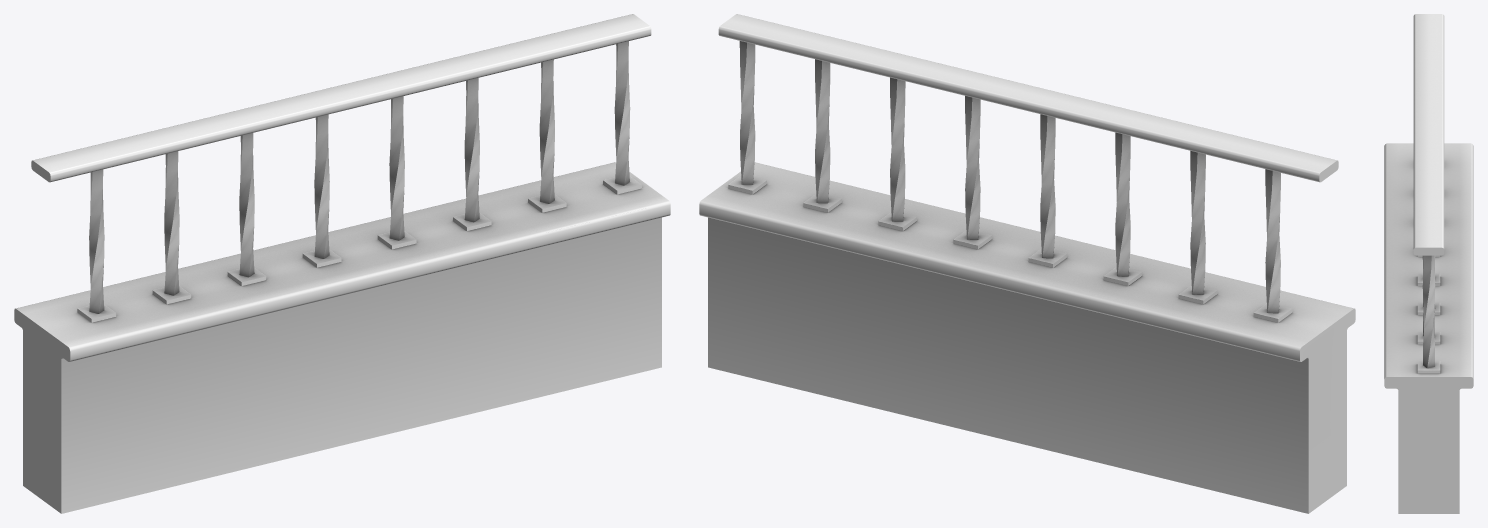
File: FenceBrick.fbx
The picture shows the model from 3 angles, left to right: view 1: azimuth 30°, elevation 25°; view 2: azimuth 150°, elevation 25°; view 3: azimuth 270°, elevation 25°; orthographic projection. The views are drawn at different scales.
Visible parts, largest first — view 1: Fence; view 2: Fence; view 3: Fence.
Part boxes in pixels (left/top/right/bottom): Fence: left=14, top=14, right=670, bottom=513; Fence: left=699, top=14, right=1355, bottom=513; Fence: left=1384, top=14, right=1473, bottom=513.
Size of the model in its own units: 802 by 425 by 129.
